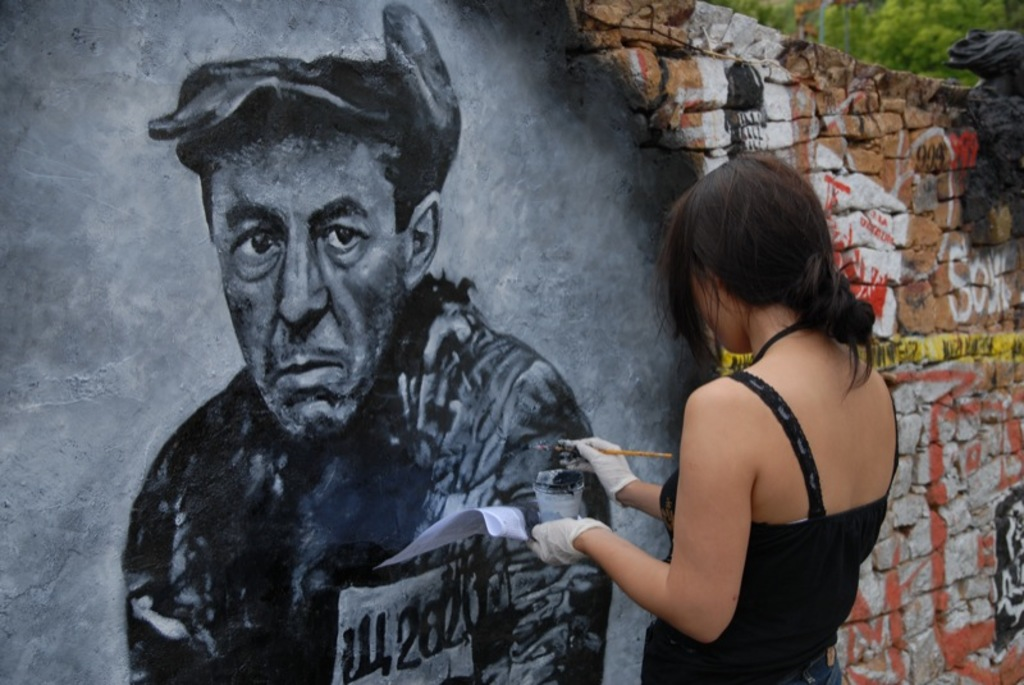Human-face: (211, 133, 401, 439)
